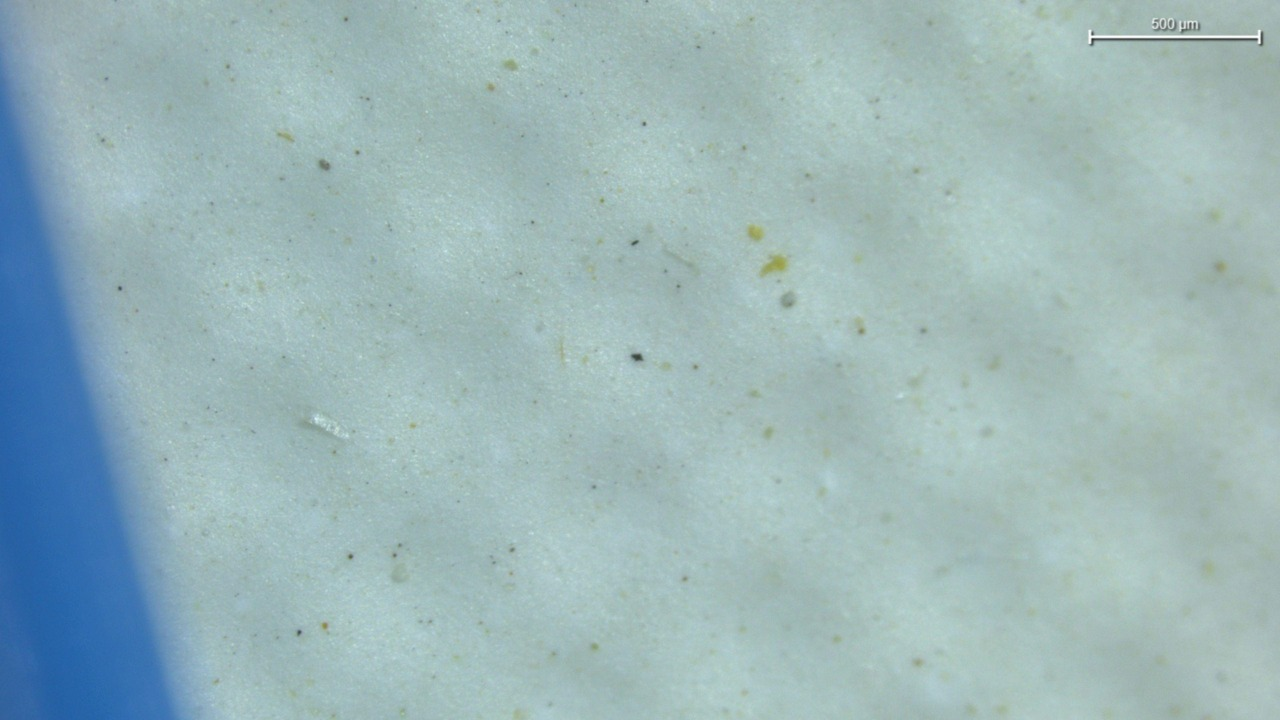microplastic_fragment: (307, 412, 350, 439)
